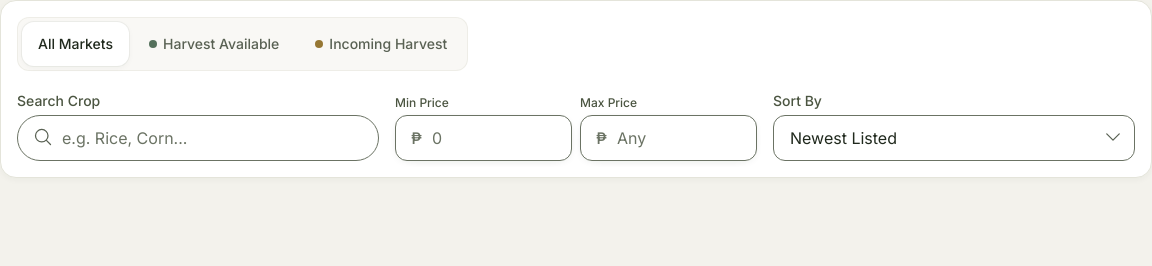
Test: ContractFilter.vue › shows a validation error instead of searching when min exceeds max
Type "500" into the number field with id "min_price". click: (484, 138)
box: [395, 115, 572, 161]
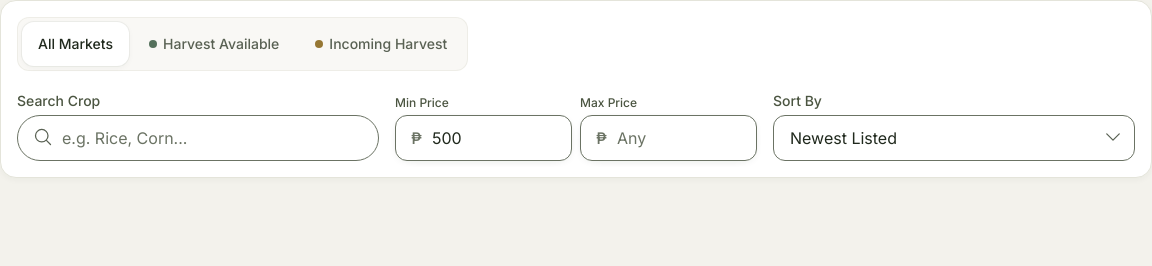
Type "100" into the number field with id "max_price". click: (668, 138)
box: [580, 115, 757, 161]
Wait 300 ms
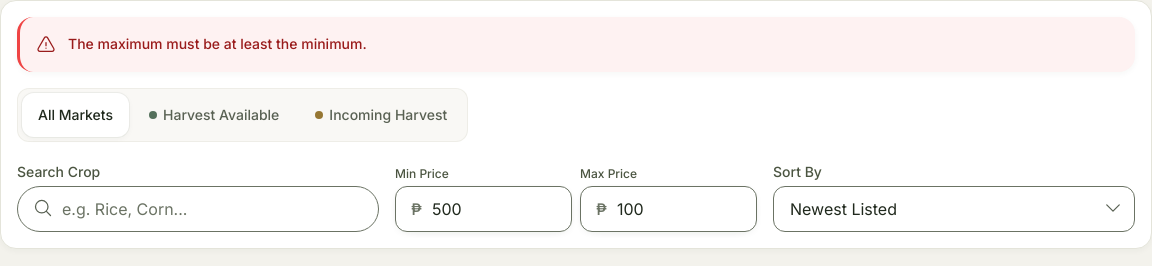
Expected: the text "The maximum must be at least the minimum." is shown, [68, 35, 367, 52]
